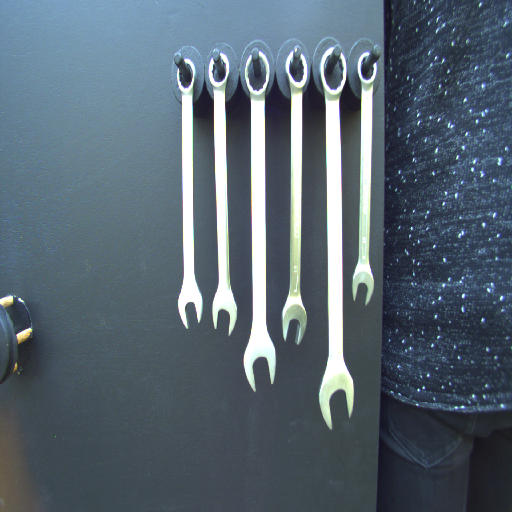bottom: (318, 366, 356, 431), (242, 334, 279, 392), (175, 280, 206, 332), (210, 286, 239, 339), (280, 296, 307, 348), (350, 263, 375, 306)
top: (318, 44, 347, 100), (242, 49, 271, 98), (283, 46, 309, 97), (206, 50, 232, 90), (175, 54, 198, 93), (357, 48, 378, 90)
